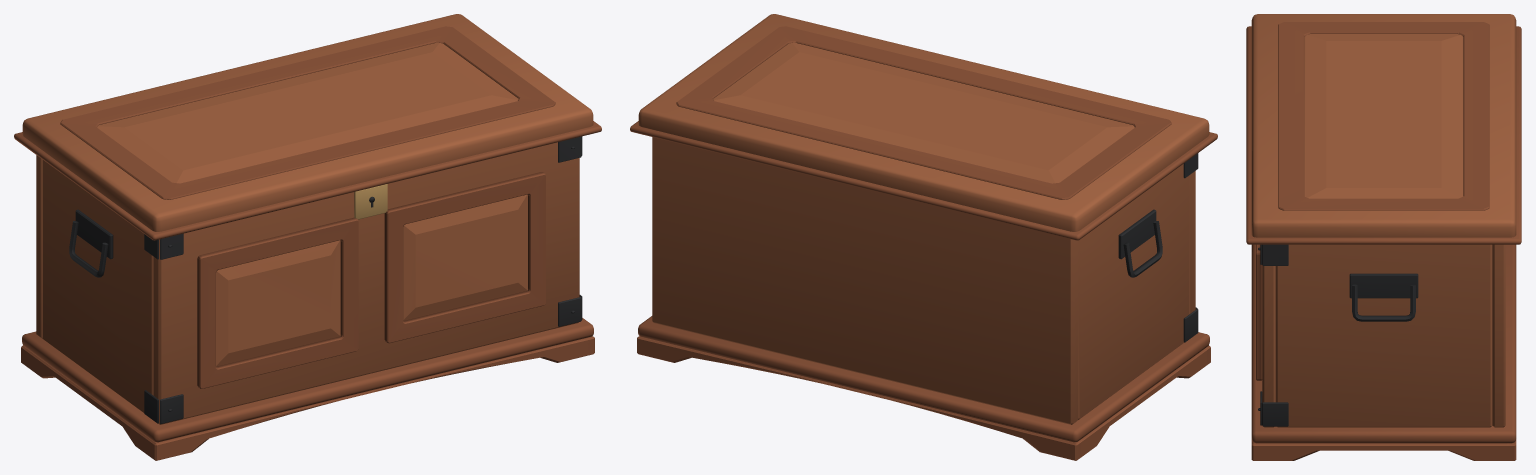
Rendered from cedarChest.glb.
The picture shows the model from 3 angles, left to right: view 1: azimuth 30°, elevation 25°; view 2: azimuth 150°, elevation 25°; view 3: azimuth 270°, elevation 25°; orthographic projection. The views are drawn at different scales.
Parts seen in each view (by area): view 1: cedarChest, lid; view 2: cedarChest, lid; view 3: lid, cedarChest.
Boxes of the visible parts, <box> form: cedarChest: <box>21,136,594,460</box>; lid: <box>14,14,601,240</box>; cedarChest: <box>637,137,1210,460</box>; lid: <box>630,14,1217,240</box>; lid: <box>1246,14,1521,244</box>; cedarChest: <box>1251,244,1516,460</box>.
Size of the model in its own units: 0.96 by 0.505 by 0.52.
